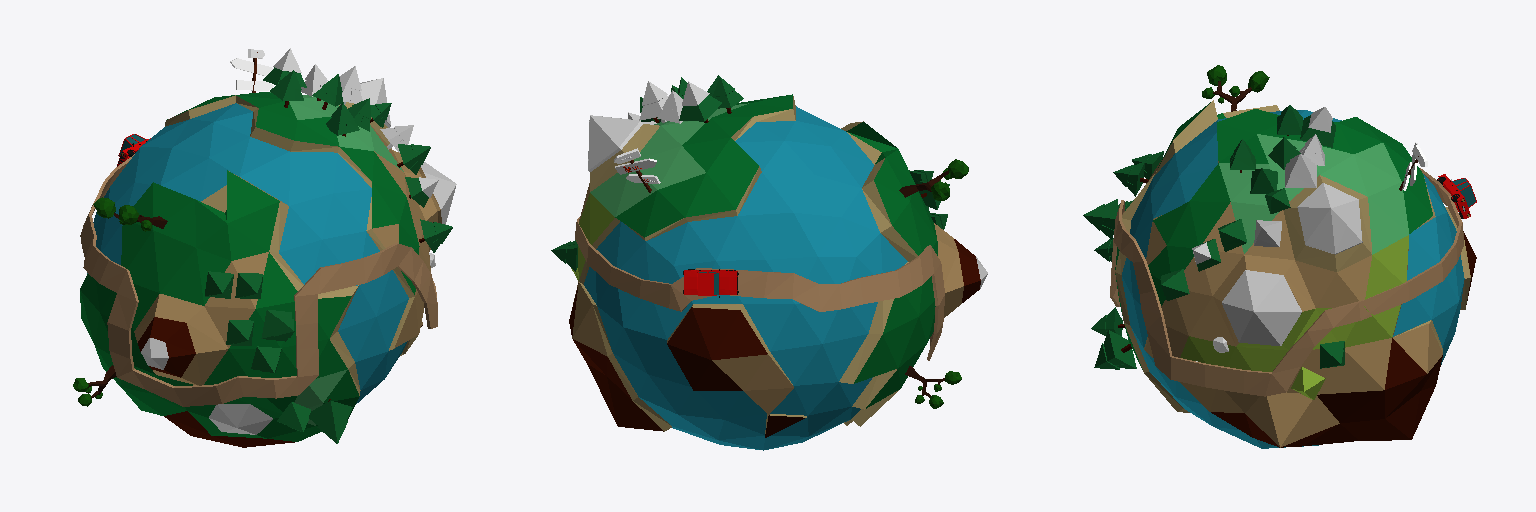
Rendered from earth.obj.
3 views of the same model, side by side, from view 1: azimuth 30°, elevation 25°; view 2: azimuth 150°, elevation 25°; view 3: azimuth 270°, elevation 25° (orthographic).
Visible parts, largest first — view 1: 棱角球_棱角球.001, 平面, 立方体.019_立方体.027, Icosphere.005, router_cube, 立方体.014_立方体.022, 立方体.002, 立方体.020_立方体.028, 立方体.018_立方体.026, 立方体.017_立方体.025, Icosphere.000, 立方体 (+8 smaller); view 2: 棱角球_棱角球.001, 平面, Cube.002, 立方体.002, Icosphere.005, router_cube, Icosphere.000, 立方体.003, 立方体; view 3: 棱角球_棱角球.001, 平面, Icosphere.005, 立方体.019_立方体.027, 立方体.002, 立方体.003, Cube.002, 立方体.014_立方体.022, 立方体.008, 立方体.013_立方体.016, 立方体.011_立方体.014, 立方体.010_立方体.013 (+6 smaller).
Part boxes in pixels (x1,y1,x2,y2): 棱角球_棱角球.001: (80,78,456,447); 平面: (80,154,437,406); 立方体.019_立方体.027: (309,399,352,443); Icosphere.005: (93,197,167,231); router_cube: (230,49,273,92); 立方体.014_立方体.022: (261,310,294,341); 立方体.002: (263,48,306,87); 立方体.020_立方体.028: (205,271,233,298); 立方体.018_立方体.026: (226,320,253,345); 立方体.017_立方体.025: (235,273,262,298); Icosphere.000: (73,365,116,406); 立方体: (270,70,303,107); 棱角球_棱角球.001: (569,94,987,450); 平面: (575,217,944,360); Cube.002: (683,269,738,297); 立方体.002: (679,81,721,122); Icosphere.005: (899,159,968,200); router_cube: (614,148,660,192); Icosphere.000: (905,366,961,408); 立方体.003: (639,81,668,122); 立方体: (712,77,743,113); 棱角球_棱角球.001: (1115,100,1476,448); 平面: (1110,168,1463,396); Icosphere.005: (1202,65,1269,111); 立方体.019_立方体.027: (1094,330,1136,369); 立方体.002: (1300,107,1335,147); 立方体.003: (1285,154,1316,187); Cube.002: (1437,174,1476,218); 立方体.014_立方体.022: (1083,199,1117,239); 立方体.008: (1254,220,1281,246); 立方体.013_立方体.016: (1291,367,1325,399); 立方体.011_立方体.014: (1160,269,1189,300); 立方体.010_立方体.013: (1192,239,1220,271).
Bounding box in the file's own units: 7.39 × 6.66 × 6.72.